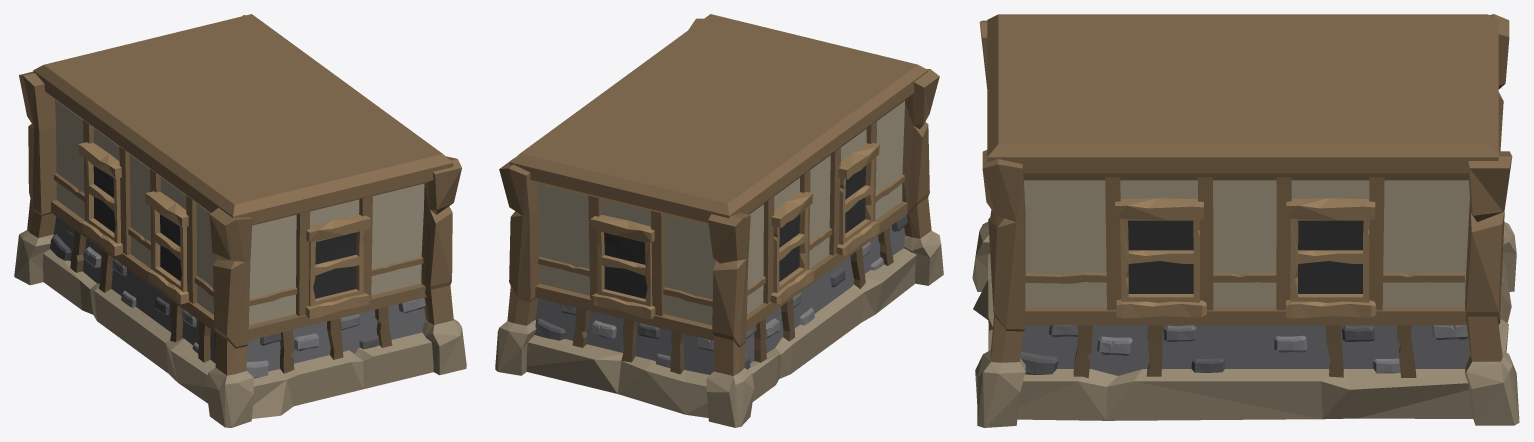
File: SM_Bld_House_Foundation_01.gltf
3 views of the same model, side by side, from view 1: azimuth 30°, elevation 25°; view 2: azimuth 150°, elevation 25°; view 3: azimuth 270°, elevation 25° (orthographic). The views are drawn at different scales.
Visible parts, largest first — view 1: SM_Bld_House_Foundation_01; view 2: SM_Bld_House_Foundation_01; view 3: SM_Bld_House_Foundation_01.
Boxes of the visible parts, x1,y1,x2,y2 form: SM_Bld_House_Foundation_01: (14,14,466,427); SM_Bld_House_Foundation_01: (495,14,943,427); SM_Bld_House_Foundation_01: (972,14,1519,427).
Bounding box in the file's own units: 3.43 × 2.81 × 5.12.
Materials: 1 (1 with a texture image).
